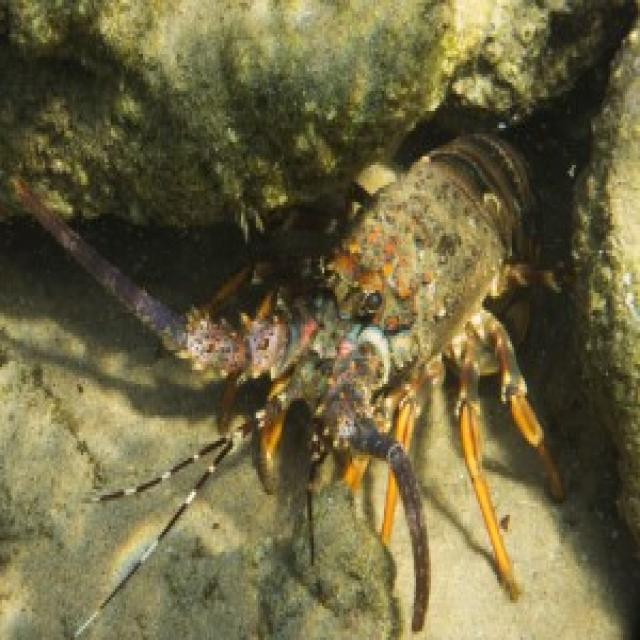lobsters: (134, 104, 606, 533)
